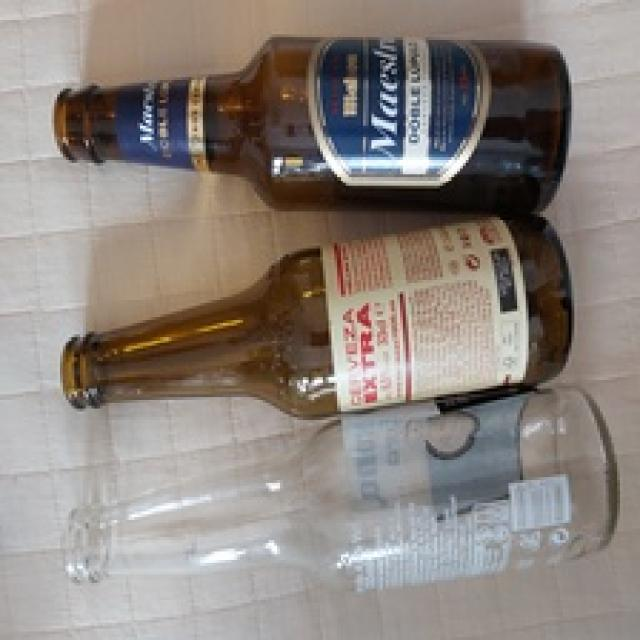Glass: (64, 386, 621, 590), (59, 214, 576, 420), (56, 26, 574, 213)
